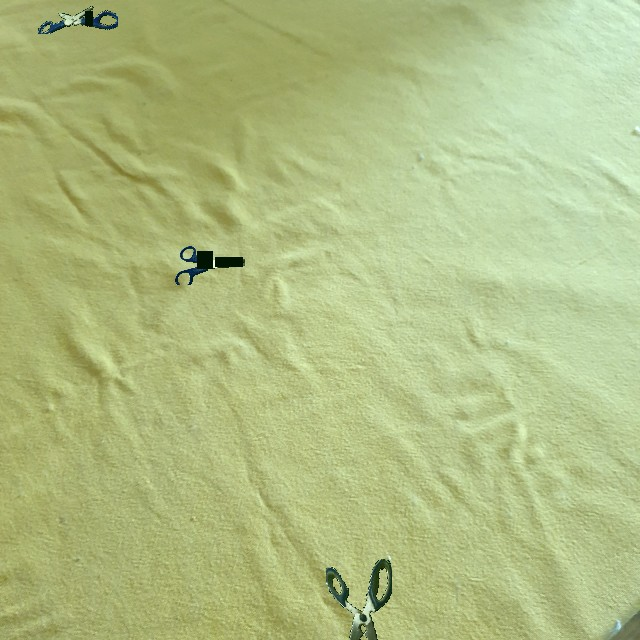scissors: (326, 559, 392, 640), (175, 246, 245, 285), (38, 6, 118, 34)
